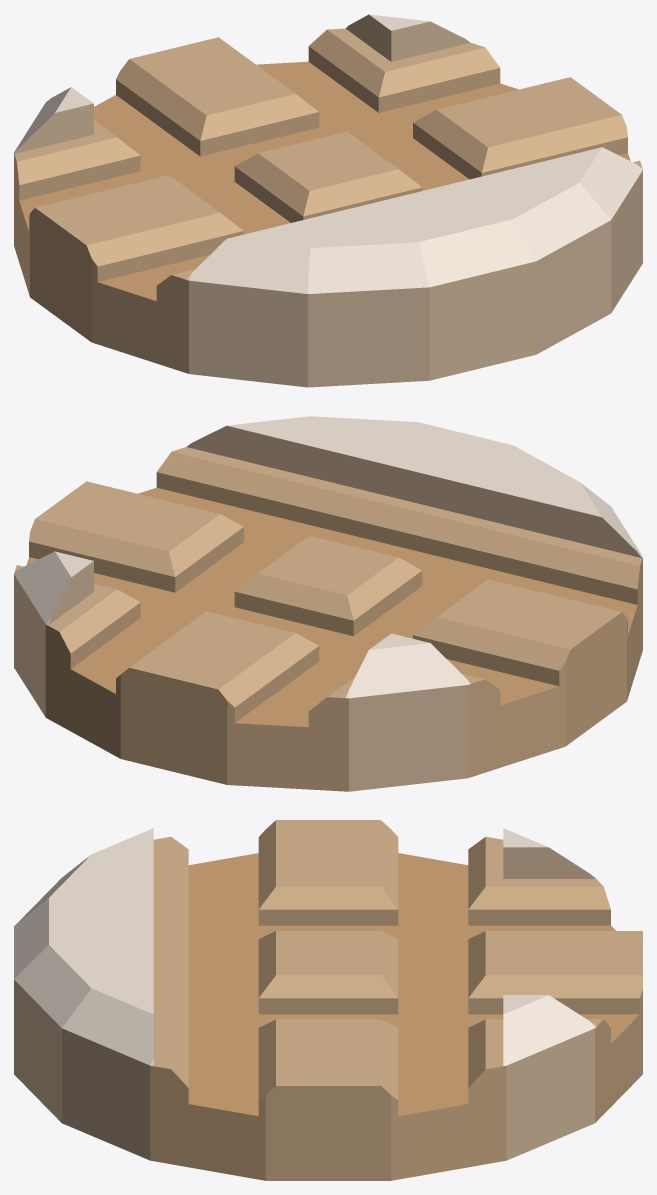
The model's file is Puzzle_Track_Rotating_Platform_TJoint.fbx.
3 renders of one model, top to bottom at view 1: azimuth 30°, elevation 25°; view 2: azimuth 150°, elevation 25°; view 3: azimuth 270°, elevation 25°, orthographic.
Parts seen in each view (by area): view 1: Sandstone_4.Sandstone_4.Sandstone_4.Sandstone_4.Sandstone_4., Sandstone_Trim.Sandstone_Trim.Sandstone_Trim.Sandstone_Trim., Sandstone_Floor.Sandstone_Floor.Sandstone_Floor, Sandstone_5; view 2: Sandstone_4.Sandstone_4.Sandstone_4.Sandstone_4.Sandstone_4., Sandstone_Trim.Sandstone_Trim.Sandstone_Trim.Sandstone_Trim., Sandstone_5, Sandstone_Floor.Sandstone_Floor.Sandstone_Floor; view 3: Sandstone_4.Sandstone_4.Sandstone_4.Sandstone_4.Sandstone_4., Sandstone_5, Sandstone_Floor.Sandstone_Floor.Sandstone_Floor, Sandstone_Trim.Sandstone_Trim.Sandstone_Trim.Sandstone_Trim..
Boxes of the visible parts, box(x1,y1,x2,y2) form: Sandstone_4.Sandstone_4.Sandstone_4.Sandstone_4.Sandstone_4.: box(14, 28, 642, 373); Sandstone_Trim.Sandstone_Trim.Sandstone_Trim.Sandstone_Trim.: box(15, 14, 642, 387); Sandstone_Floor.Sandstone_Floor.Sandstone_Floor: box(14, 14, 642, 293); Sandstone_5: box(19, 61, 630, 300); Sandstone_4.Sandstone_4.Sandstone_4.Sandstone_4.Sandstone_4.: box(15, 447, 642, 791); Sandstone_Trim.Sandstone_Trim.Sandstone_Trim.Sandstone_Trim.: box(14, 425, 641, 791); Sandstone_5: box(26, 487, 637, 727); Sandstone_Floor.Sandstone_Floor.Sandstone_Floor: box(14, 416, 642, 698); Sandstone_4.Sandstone_4.Sandstone_4.Sandstone_4.Sandstone_4.: box(150, 820, 642, 1180); Sandstone_5: box(188, 853, 639, 1116); Sandstone_Floor.Sandstone_Floor.Sandstone_Floor: box(14, 828, 596, 1065); Sandstone_Trim.Sandstone_Trim.Sandstone_Trim.Sandstone_Trim.: box(14, 847, 595, 1160).
Size of the model in its own units: 0.9 by 0.2 by 0.9.
